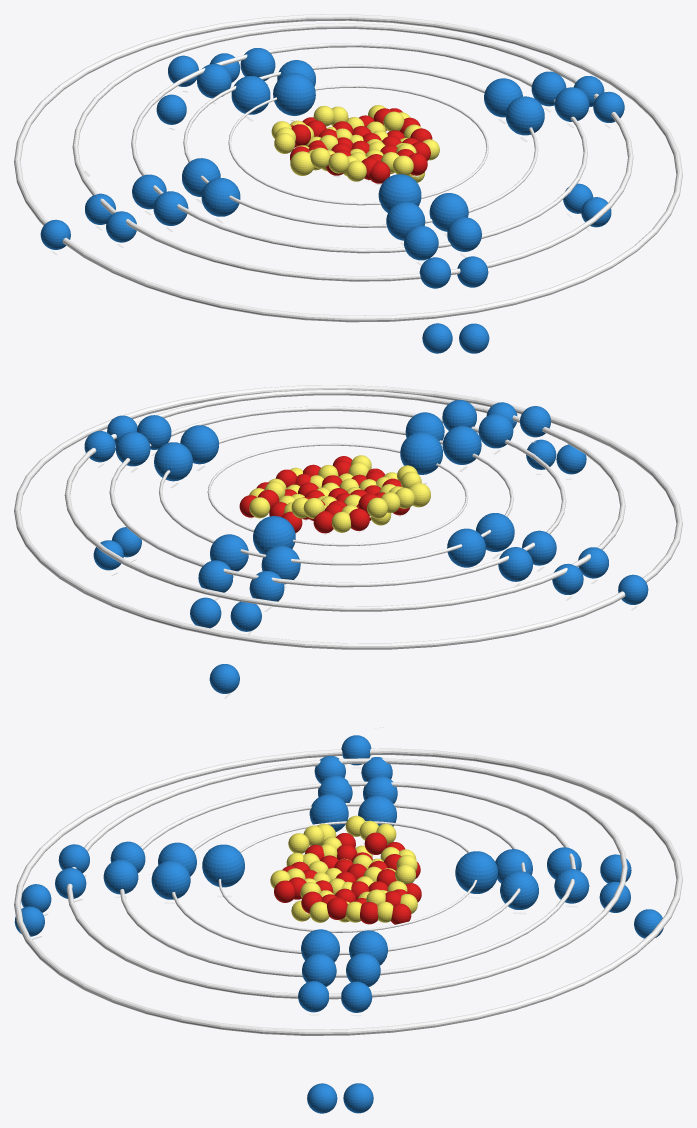
The picture shows the model from 3 angles, top to bottom: view 1: azimuth 30°, elevation 25°; view 2: azimuth 150°, elevation 25°; view 3: azimuth 270°, elevation 25°; orthographic projection.
Parts seen in each view (by area): view 1: Torus.005, Torus.004, Torus.003, Torus.002, Torus.001, g, g.005, g.003, g.001, g.008, g.007, g.006 (+22 smaller); view 2: Torus.005, Torus.004, Torus.003, Torus.002, Torus.001, g.001, g, g.006, g.004, g.002, g.003, g.005 (+24 smaller); view 3: Torus.005, Torus.004, Torus.003, Torus.002, Torus.001, g.001, g, g.007, g.009, g.003, g.015, g.005 (+24 smaller).
Part boxes in pixels (x1,y1,x2,y2): Torus.005: (14,14,682,322); Torus.004: (72,23,633,281); Torus.003: (131,43,587,253); Torus.002: (183,64,538,227); Torus.001: (228,85,488,205); g: (273,73,315,115); g.005: (506,96,544,135); g.003: (201,178,240,216); g.001: (378,174,421,212); g.008: (231,76,270,114); g.007: (429,193,468,231); g.006: (386,202,425,240); Torus.005: (14,385,682,649); Torus.004: (64,389,625,611); Torus.003: (109,406,566,587); Torus.002: (159,425,513,565); Torus.001: (207,443,468,546); g.001: (400,432,442,474); g: (253,516,295,554); g.006: (442,426,481,464); g.004: (154,442,192,481); g.002: (447,528,485,567); g.003: (476,513,514,551); g.005: (180,425,218,464); Torus.005: (14,748,682,1035); Torus.004: (66,758,627,999); Torus.003: (120,781,575,977); Torus.002: (172,802,525,955); Torus.001: (218,821,476,932); g.001: (202,844,244,887); g: (455,851,498,893); g.007: (151,860,190,899); g.009: (500,871,538,909); g.003: (309,794,348,831); g.015: (103,859,138,894); g.005: (301,929,339,962).
Size of the model in its own units: 15.75 by 3.94 by 15.42.
